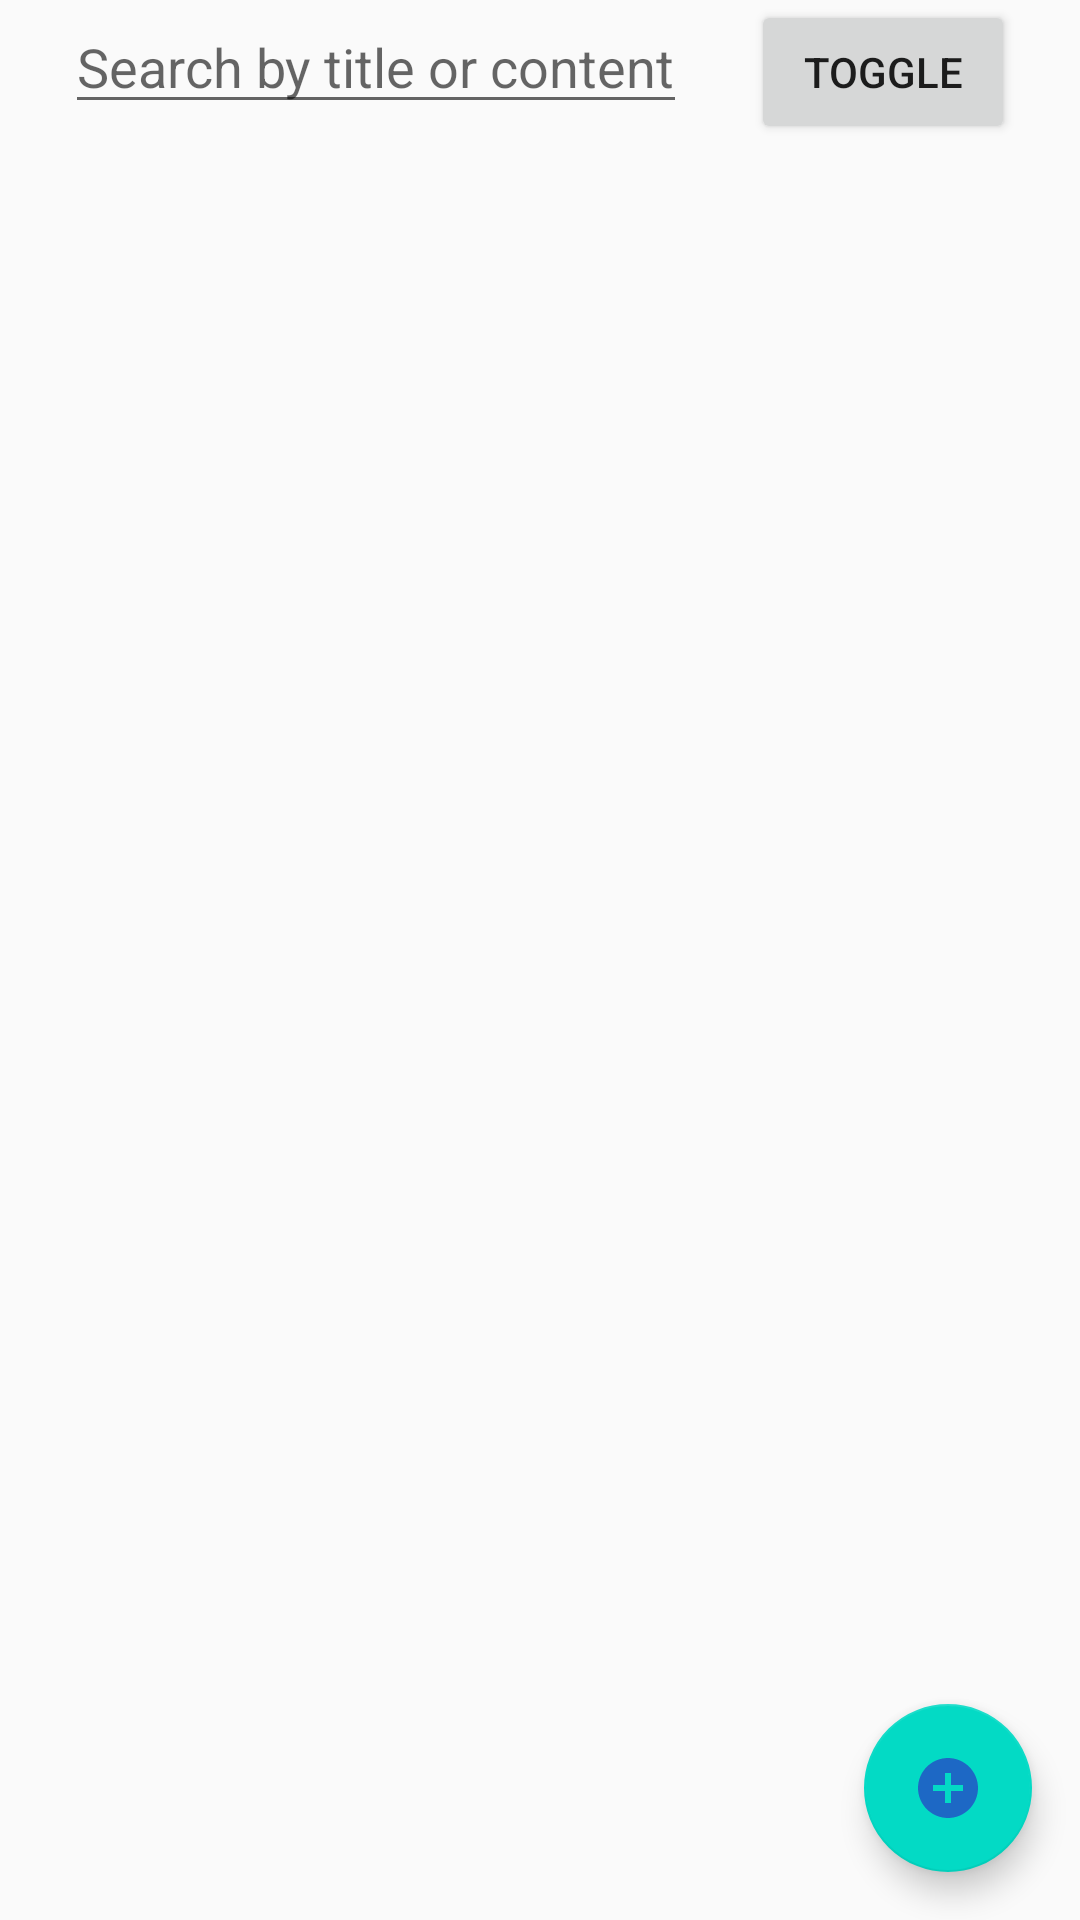

Where to tap for icons on this 1080px x 1920px app screen, as (x,y):
add note: (948,1788)
